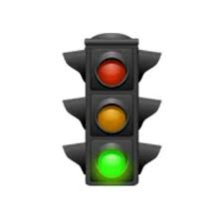semaforo: (84, 38, 139, 186)
